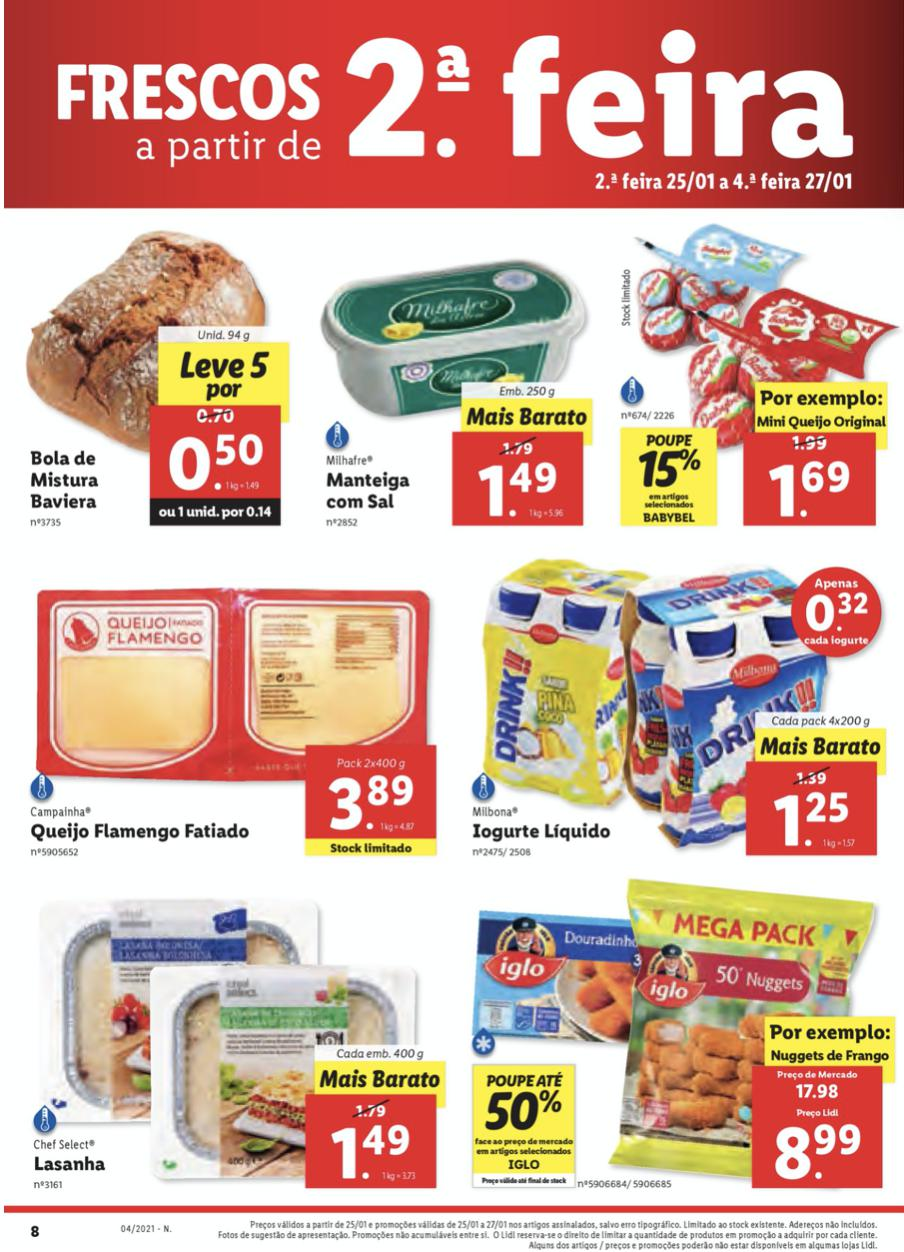name: (28, 819, 258, 845), (23, 444, 102, 514), (320, 467, 412, 512), (467, 822, 619, 844)
price: (172, 430, 267, 500), (323, 772, 419, 837), (770, 1117, 867, 1181), (472, 456, 566, 522), (769, 784, 856, 853), (328, 1117, 417, 1183), (767, 456, 856, 520)
product: (466, 542, 887, 883), (452, 883, 887, 1203), (25, 883, 452, 1203), (12, 564, 450, 867), (609, 208, 904, 528), (314, 228, 608, 547), (14, 227, 302, 541)
promotion: (481, 1087, 566, 1137), (637, 448, 706, 491)
